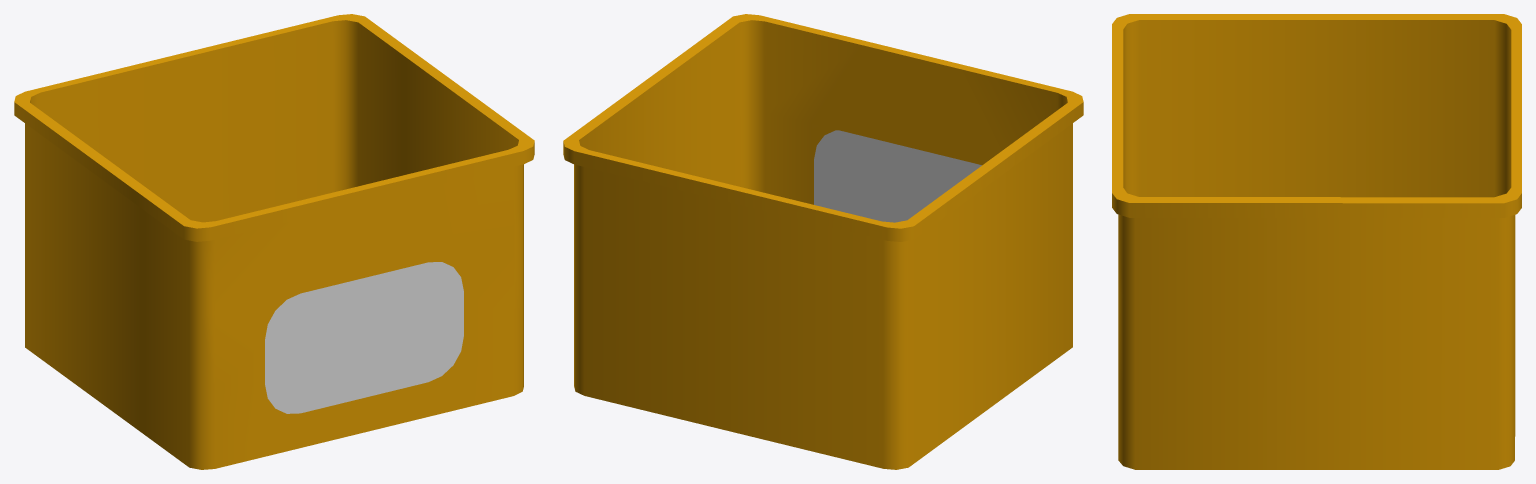
File: Toy box.fbx
The picture shows the model from 3 angles, left to right: view 1: azimuth 30°, elevation 25°; view 2: azimuth 150°, elevation 25°; view 3: azimuth 270°, elevation 25°; orthographic projection. The views are drawn at different scales.
Parts seen in each view (by area): view 1: Cube.003; view 2: Cube.003; view 3: Cube.003.
Boxes of the visible parts, box(x1,y1,x2,y2) form: Cube.003: box(14, 14, 534, 469); Cube.003: box(563, 14, 1083, 469); Cube.003: box(1112, 14, 1521, 469).
Size of the model in its own units: 433 by 290 by 397.
